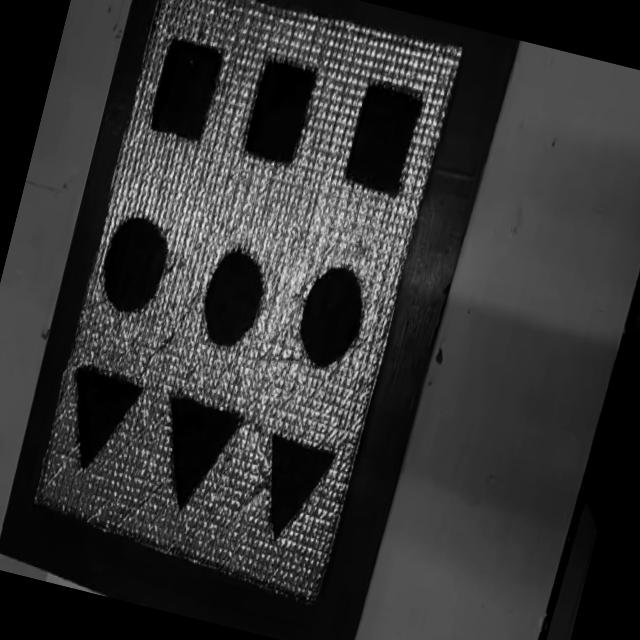mtcircle: (300, 266, 363, 367)
mtcube: (346, 84, 421, 192), (152, 39, 222, 140)
mttriangle: (170, 395, 241, 507)
wb: (33, 0, 462, 601)
